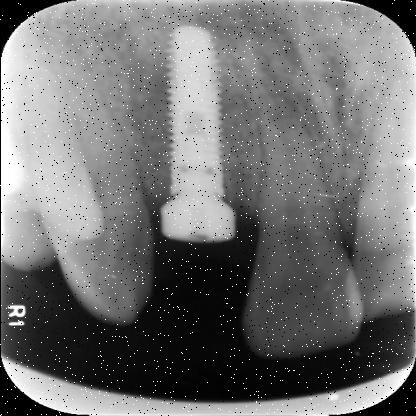Bego: (164, 22, 230, 196)
